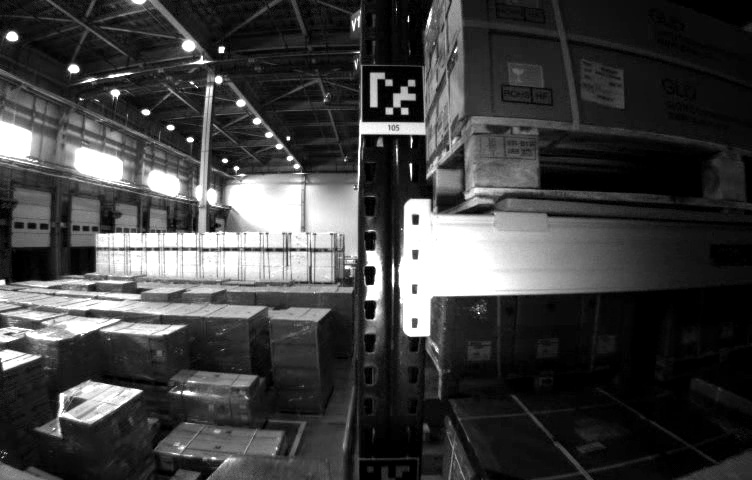True Barcode: (579, 60, 626, 108)
